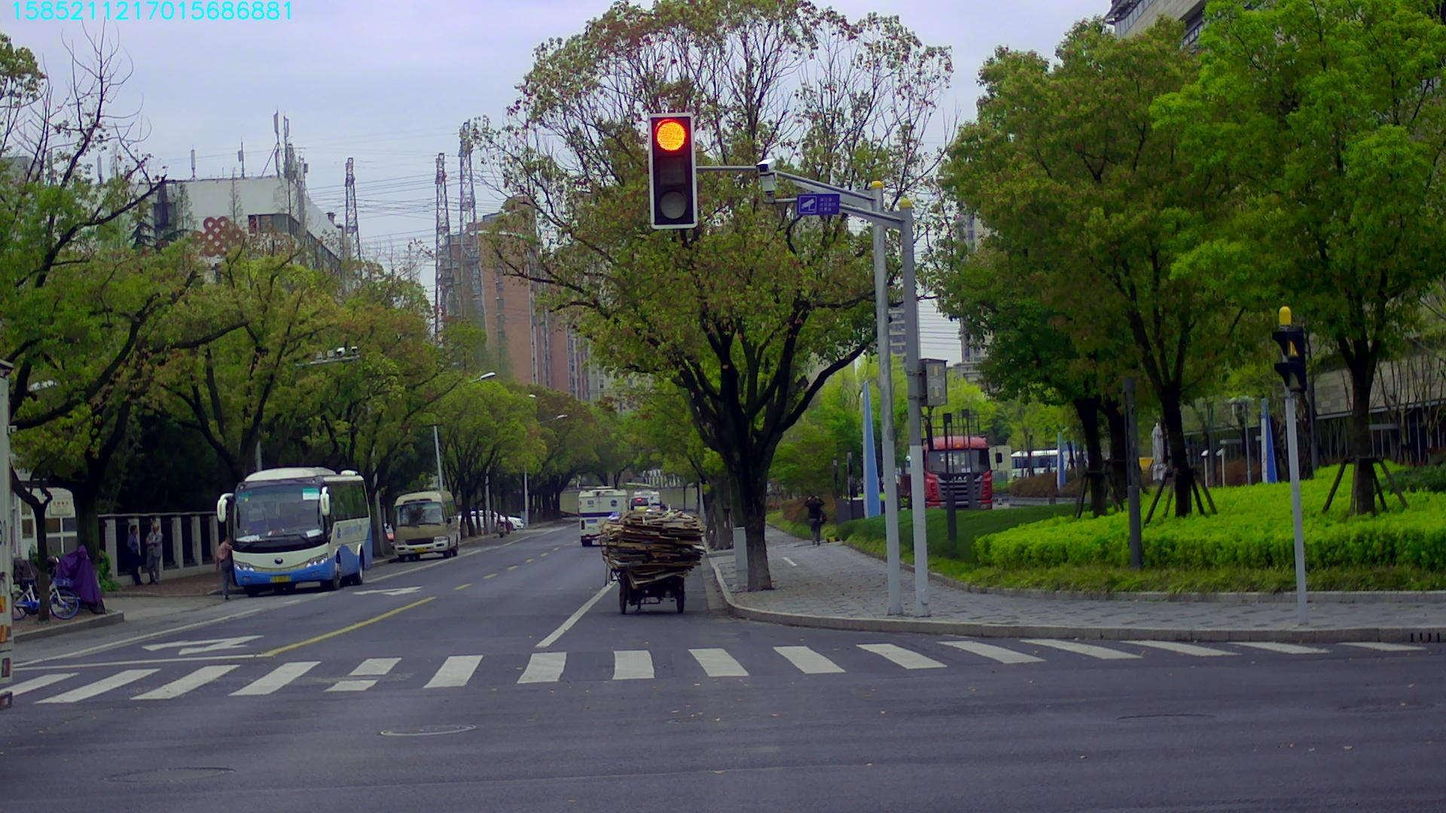red: (649, 116, 694, 228)
